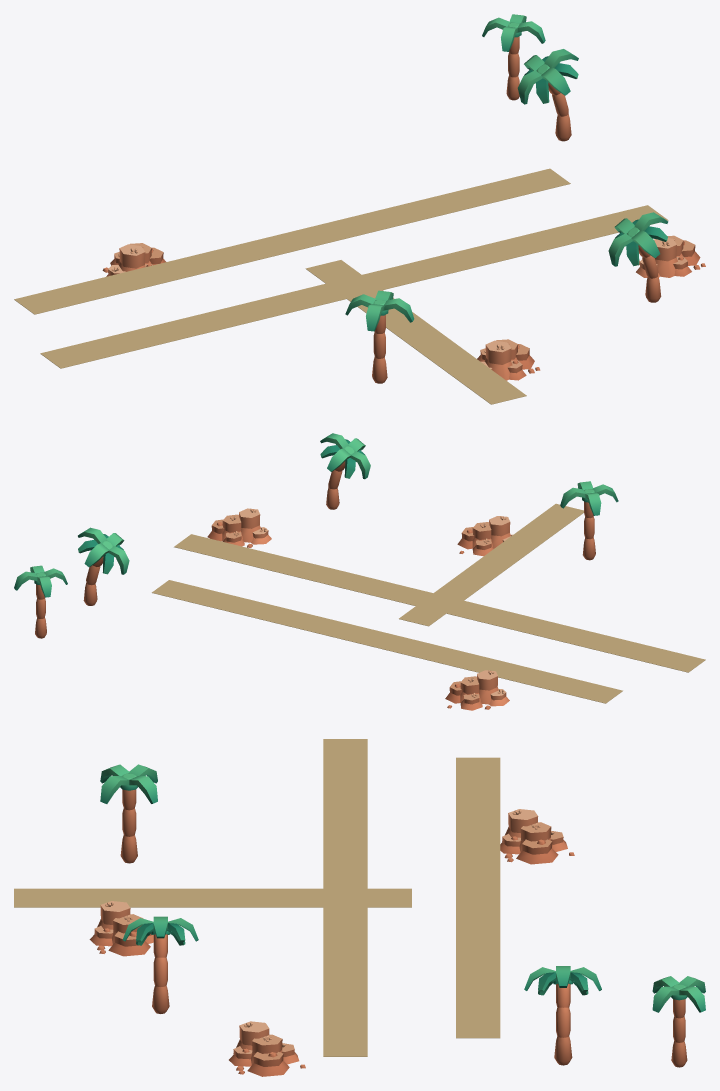
Rendered from metal_scenery.glb.
3 views of the same model, one above another, from view 1: azimuth 30°, elevation 25°; view 2: azimuth 150°, elevation 25°; view 3: azimuth 270°, elevation 25° (orthographic). The views are drawn at different scales.
Visible parts, largest first — view 1: Packed-sand lane.014, Packed-sand lane.012, Packed-sand lane.011, Packed-sand lane.013, palm-detailed-bend.010, palm-detailed-bend.011, palm-straight.010, palm-straight.011, rocks-sand-a.010, rocks-sand-a.012, rocks-sand-a.011; view 2: Packed-sand lane.014, Packed-sand lane.011, Packed-sand lane.012, Packed-sand lane.013, palm-detailed-bend.010, palm-detailed-bend.011, rocks-sand-a.011, rocks-sand-a.012, palm-straight.010, rocks-sand-a.010, palm-straight.011; view 3: Packed-sand lane.014, Packed-sand lane.011, Packed-sand lane.012, Packed-sand lane.013, palm-straight.010, rocks-sand-a.012, rocks-sand-a.011, palm-detailed-bend.010, palm-detailed-bend.011, palm-straight.011, rocks-sand-a.010.
Boxes of the visible parts, x1,y1,x2,y2 form: Packed-sand lane.014: (14,168,570,314); Packed-sand lane.012: (40,283,346,368); Packed-sand lane.011: (305,260,526,404); Packed-sand lane.013: (362,205,668,289); palm-detailed-bend.010: (517,49,578,141); palm-detailed-bend.011: (608,212,668,302); palm-straight.010: (345,290,414,383); palm-straight.011: (482,14,545,100); rocks-sand-a.010: (477,339,540,380); rocks-sand-a.012: (636,235,705,277); rocks-sand-a.011: (102,243,165,276); Packed-sand lane.014: (152,580,622,703); Packed-sand lane.011: (399,503,583,626); Packed-sand lane.012: (446,600,705,672); Packed-sand lane.013: (174,534,432,605); palm-detailed-bend.010: (78,527,129,605); palm-detailed-bend.011: (320,433,370,509); rocks-sand-a.011: (445,670,509,710); rocks-sand-a.012: (207,508,271,547); palm-straight.010: (560,481,618,560); rocks-sand-a.010: (457,516,512,556); palm-straight.011: (14,565,67,638); Packed-sand lane.014: (456,757,500,1038); Packed-sand lane.011: (14,888,411,907); Packed-sand lane.012: (323,739,367,888); Packed-sand lane.013: (323,907,367,1056); palm-straight.010: (100,764,157,863); rocks-sand-a.012: (229,1021,305,1076); rocks-sand-a.011: (500,809,574,864); palm-detailed-bend.010: (524,966,601,1065); palm-detailed-bend.011: (122,916,198,1013); palm-straight.011: (652,976,705,1067); rocks-sand-a.010: (89,901,153,956).
Size of the model in its own units: 35.84 by 5.43 by 31.3.
4 materials, 3 textured.
